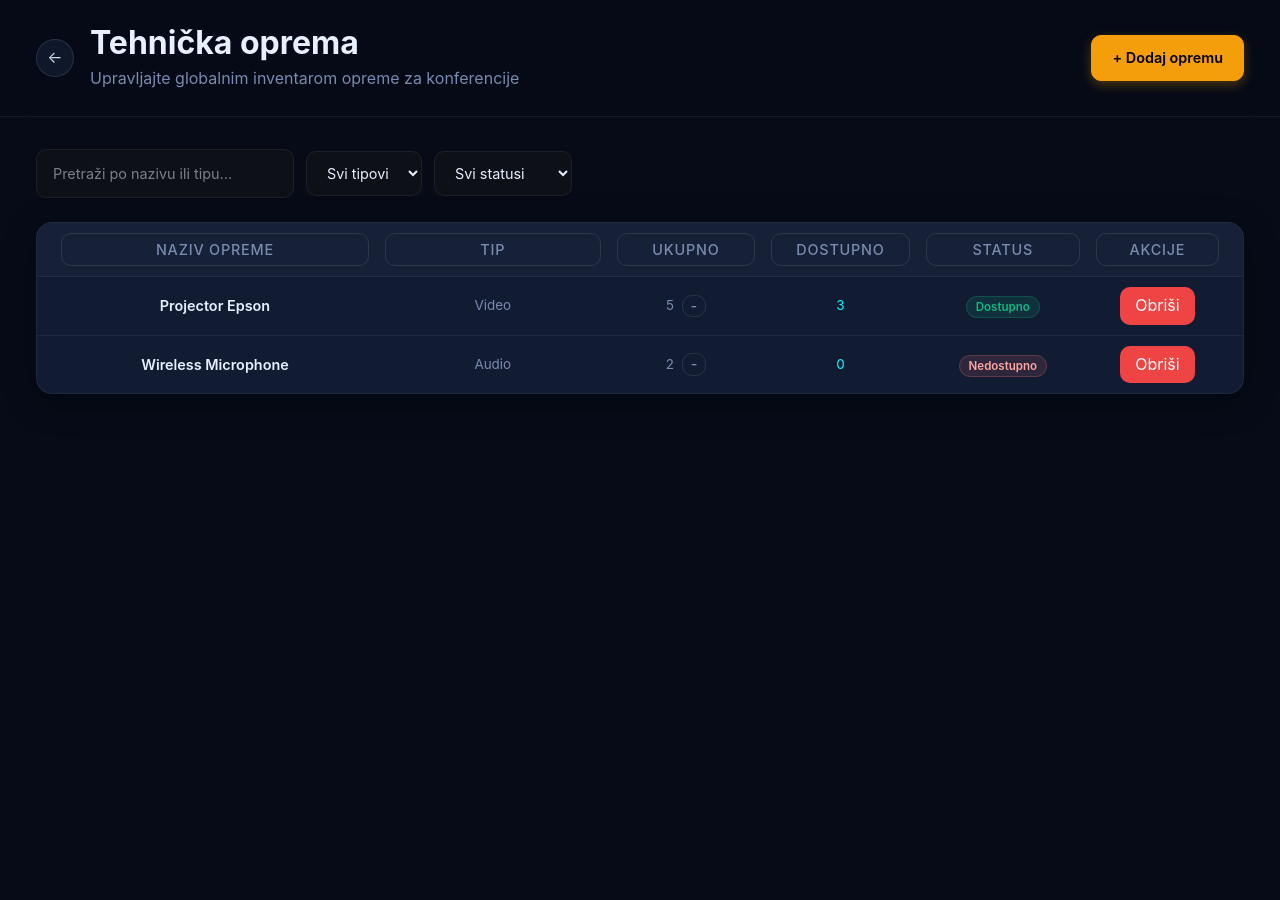
EquipmentPage › klik na kreiranje otvara modal sa poljima naziv tip i kolicina
Check: the text "Projector Epson" is shown, box [160, 297, 270, 314]
Click the button "+ Dodaj opremu" at coordinates (1168, 58), box [1092, 36, 1244, 80]
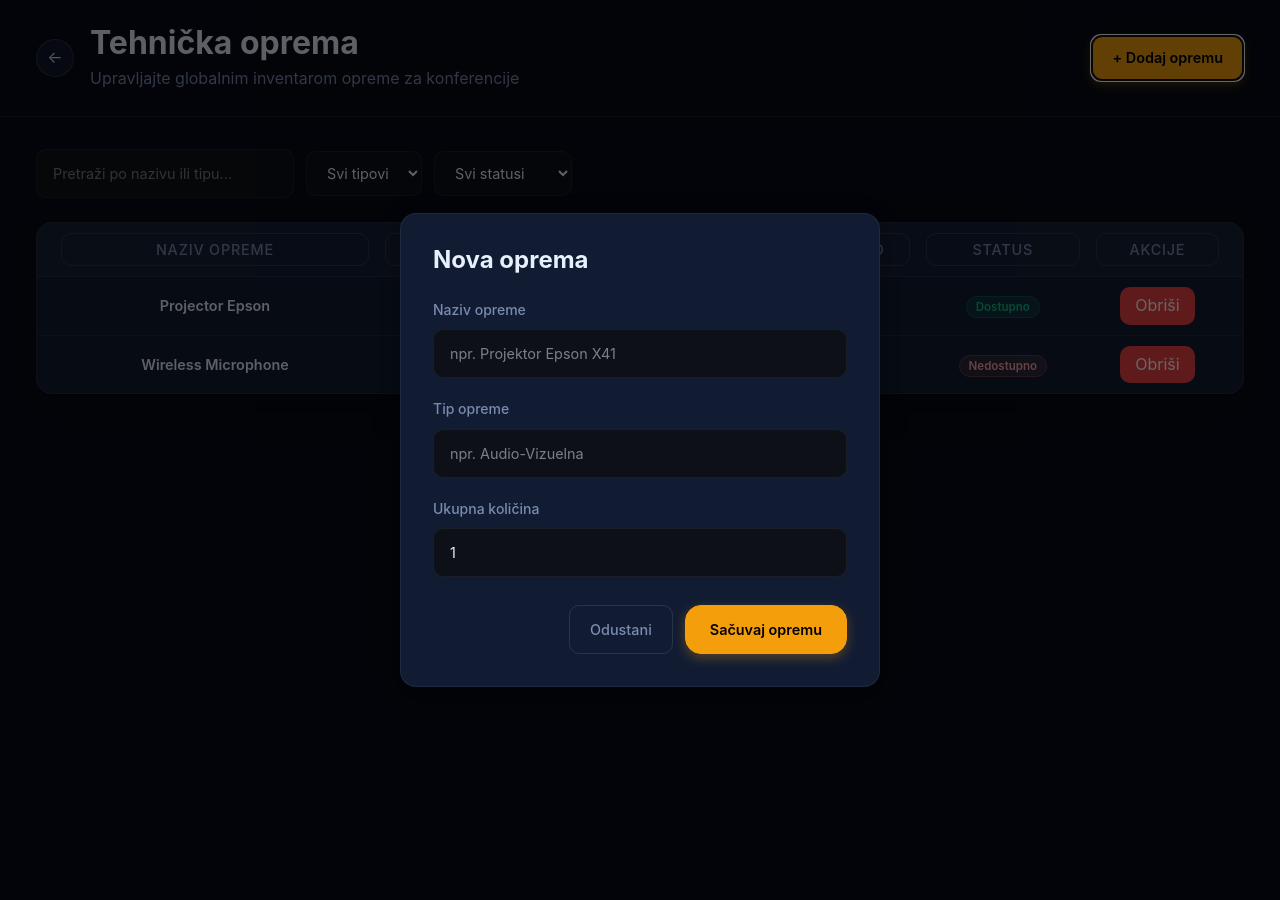
Check: the heading "Nova oprema" is shown, box [433, 245, 588, 274]
Check: the text "Naziv opreme" is shown, box [433, 301, 526, 318]
Check: the text "Tip opreme" is shown, box [433, 400, 509, 417]
